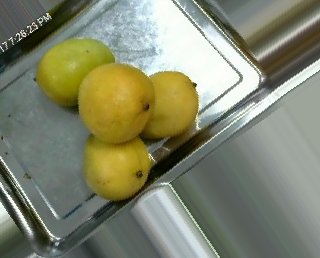Mango: (76, 60, 160, 148), (35, 35, 119, 111), (81, 123, 157, 202), (135, 67, 200, 141)
